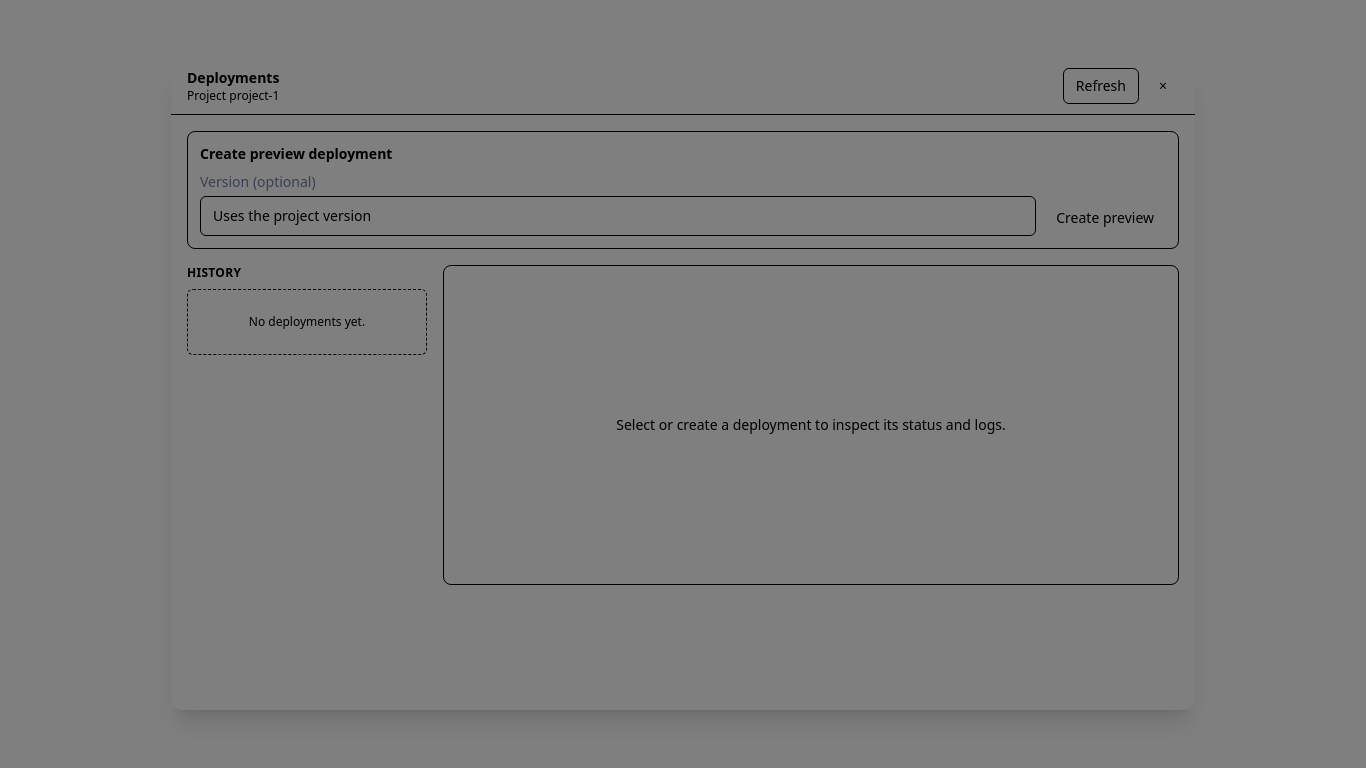
DeploymentPanel › creates a queued preview without claiming it is live and starts its build
Click the button "Create preview" at (1105, 218), box 1044,200 -> 1166,236
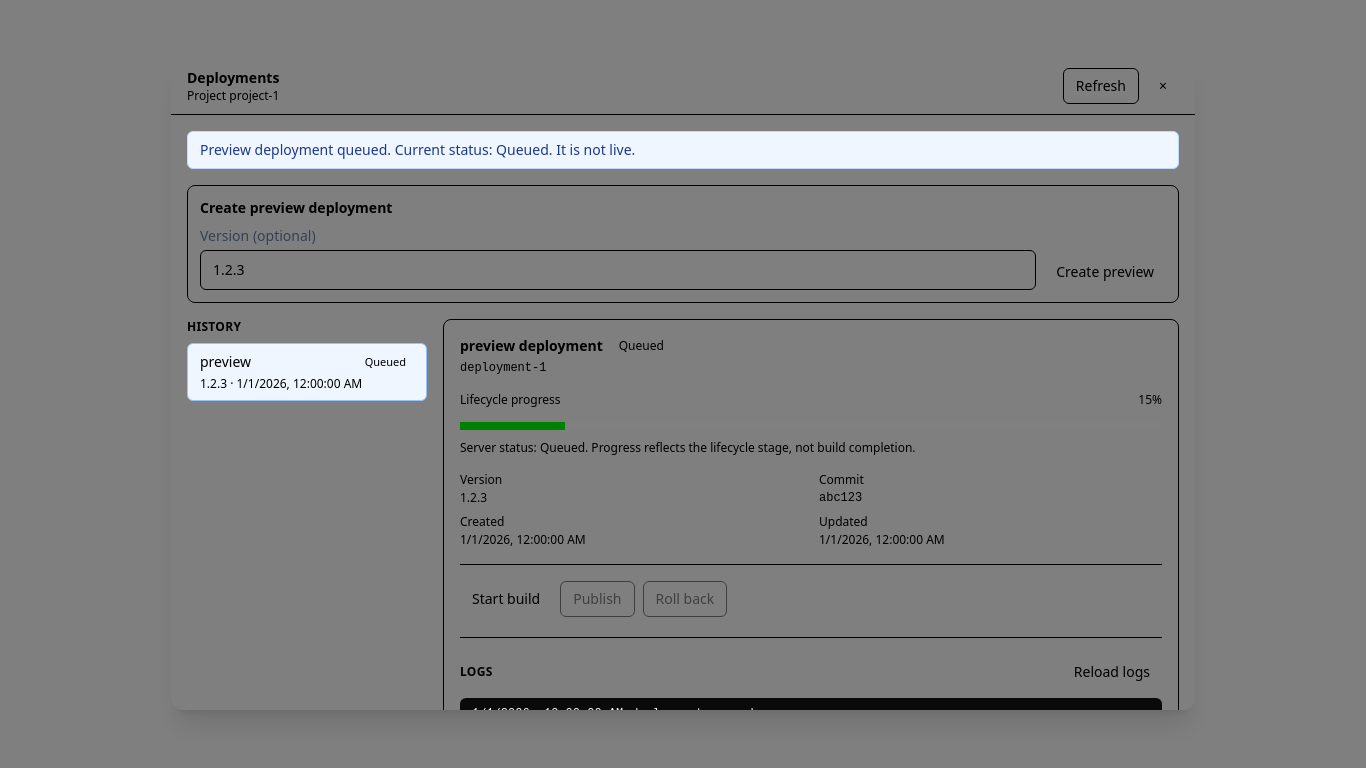
expect the message "Preview deployment queued. Current status: Queued. It is not live." is shown: met, box 187,131 -> 1179,169
Click the button "Start build" at (506, 599), box 460,581 -> 552,617
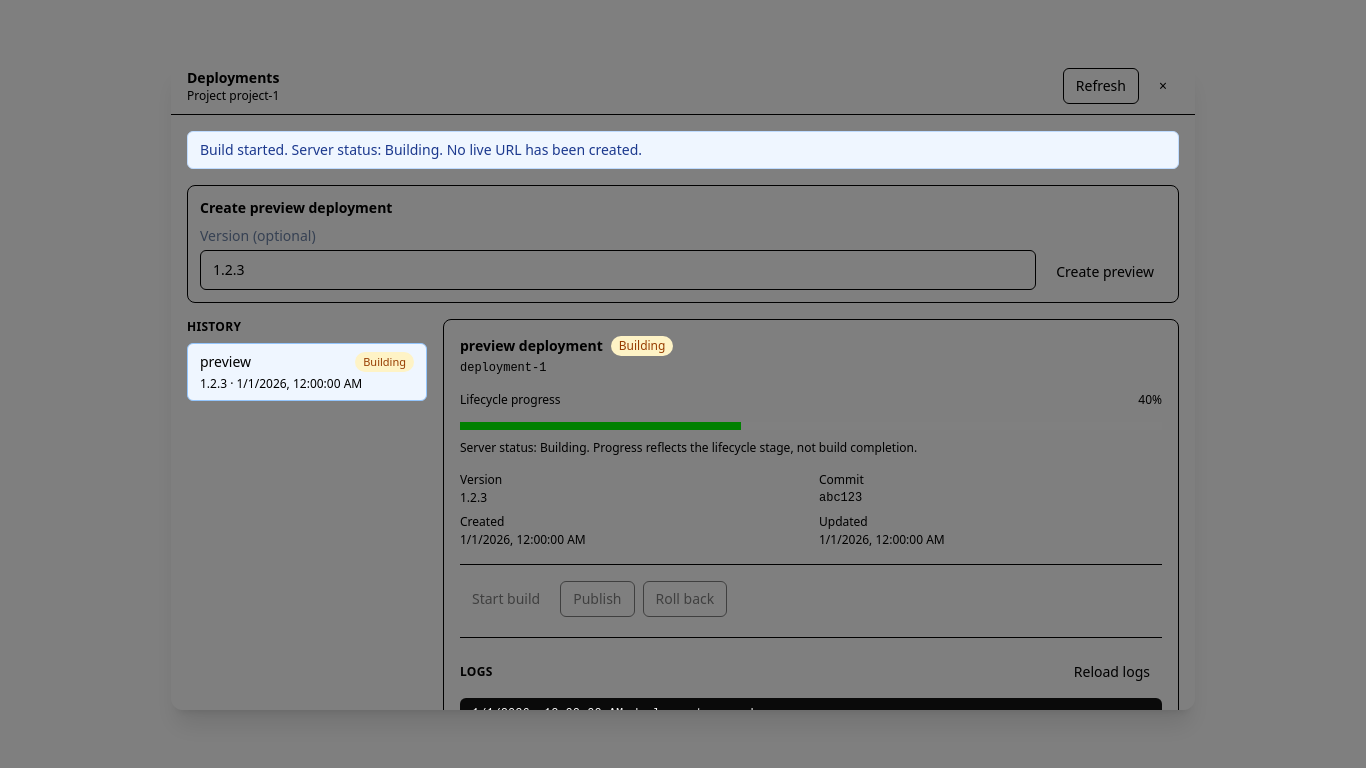
expect the text "Build started. Server status: Building." is shown: met, box 200,140 -> 642,159
expect the text "No live URL has been created." is shown: met, box 200,140 -> 642,159
